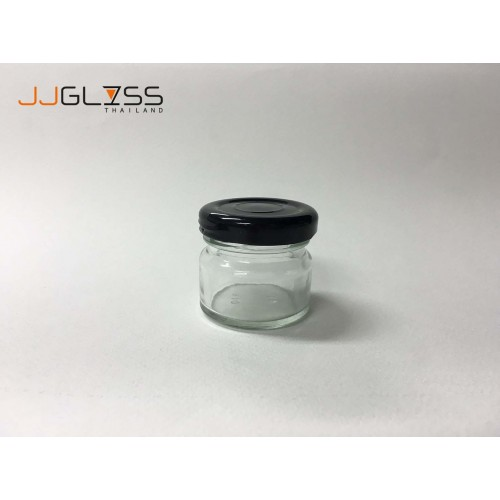glass_bottleww: (178, 107, 360, 395)
